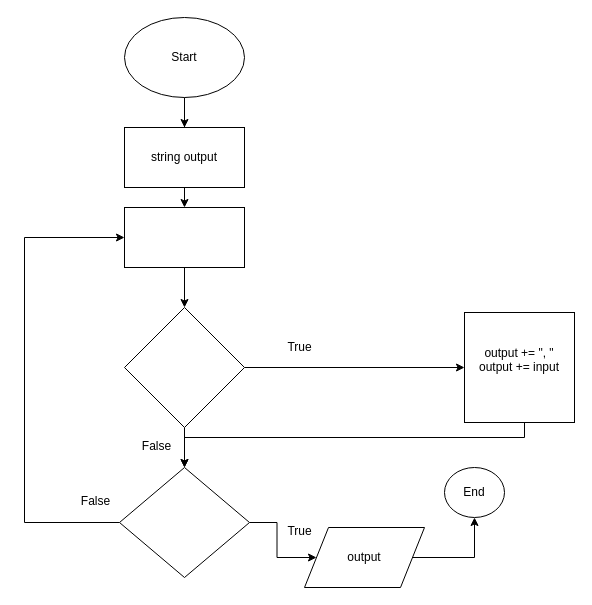
This 592x605 diagram has some shape labels left out. The shapes that lost their labels are listed below. From the top down, each one's centre as x and y in pixels, then its label:
point (184, 237): int input
point (184, 367): input % 10 == 3 || input %10 == 9 || input %10 == 6
point (184, 522): input == "n"
